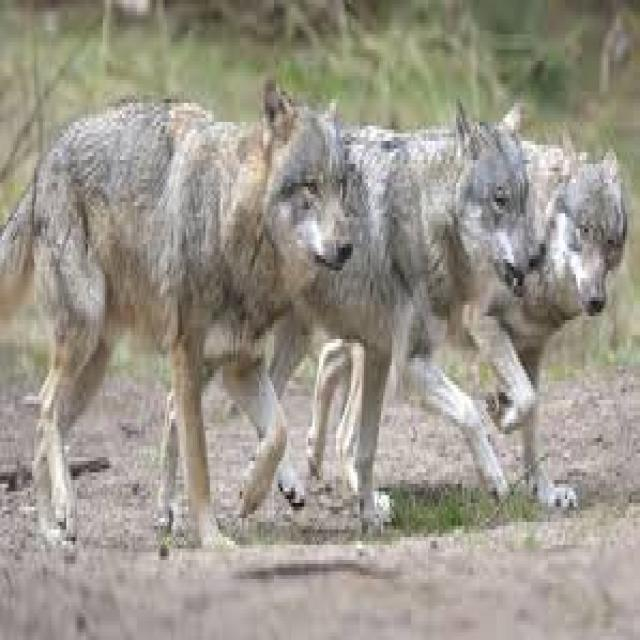Wolf: (156, 92, 550, 537), (300, 122, 627, 514)
